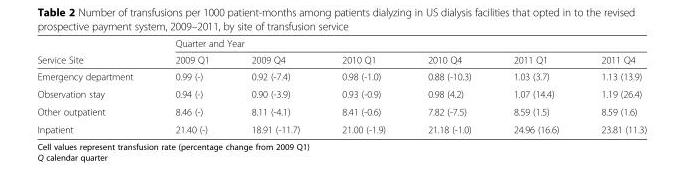table: (36, 37, 646, 134)
table column: (36, 37, 153, 134), (229, 37, 320, 134), (491, 37, 579, 134), (320, 37, 406, 134), (406, 37, 491, 134), (153, 37, 229, 134), (579, 37, 646, 134)
table column header: (36, 37, 646, 67)
table row: (36, 84, 646, 102), (36, 102, 646, 120), (36, 67, 646, 84), (36, 51, 646, 67), (36, 37, 646, 51), (36, 120, 646, 134)
table spanning cell: (153, 37, 646, 51), (36, 37, 153, 67)
